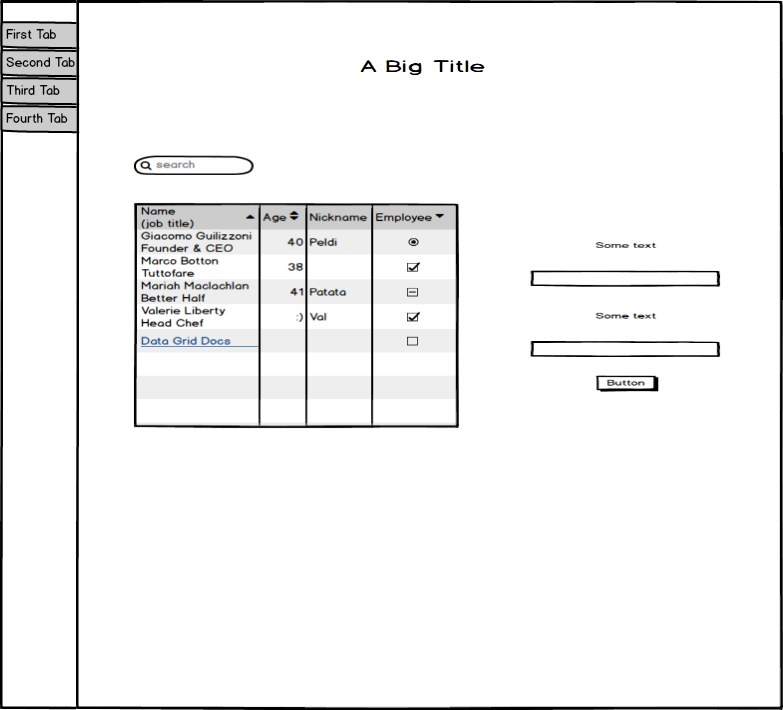button: (594, 372, 659, 394)
h1: (353, 53, 491, 81)
input: (526, 266, 723, 293), (527, 338, 723, 360)
label: (592, 236, 664, 254), (591, 310, 666, 324)
search: (132, 151, 256, 180)
sidebar: (2, 13, 84, 142)
table: (132, 200, 464, 432)
